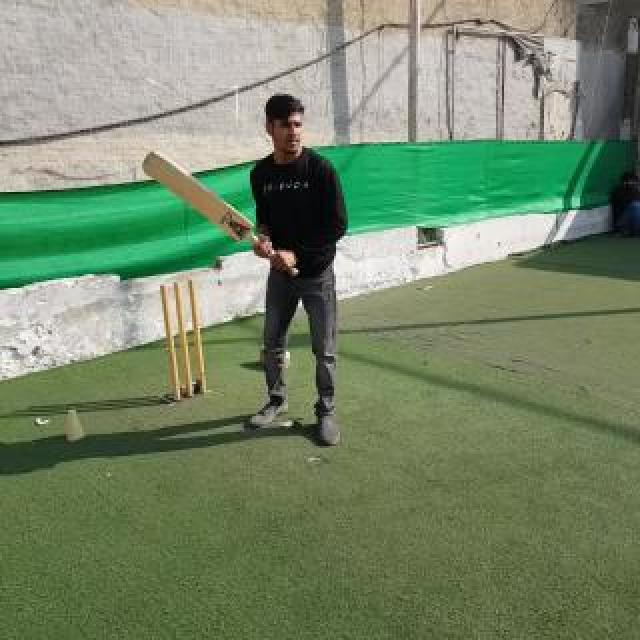bat: (142, 150, 300, 276)
